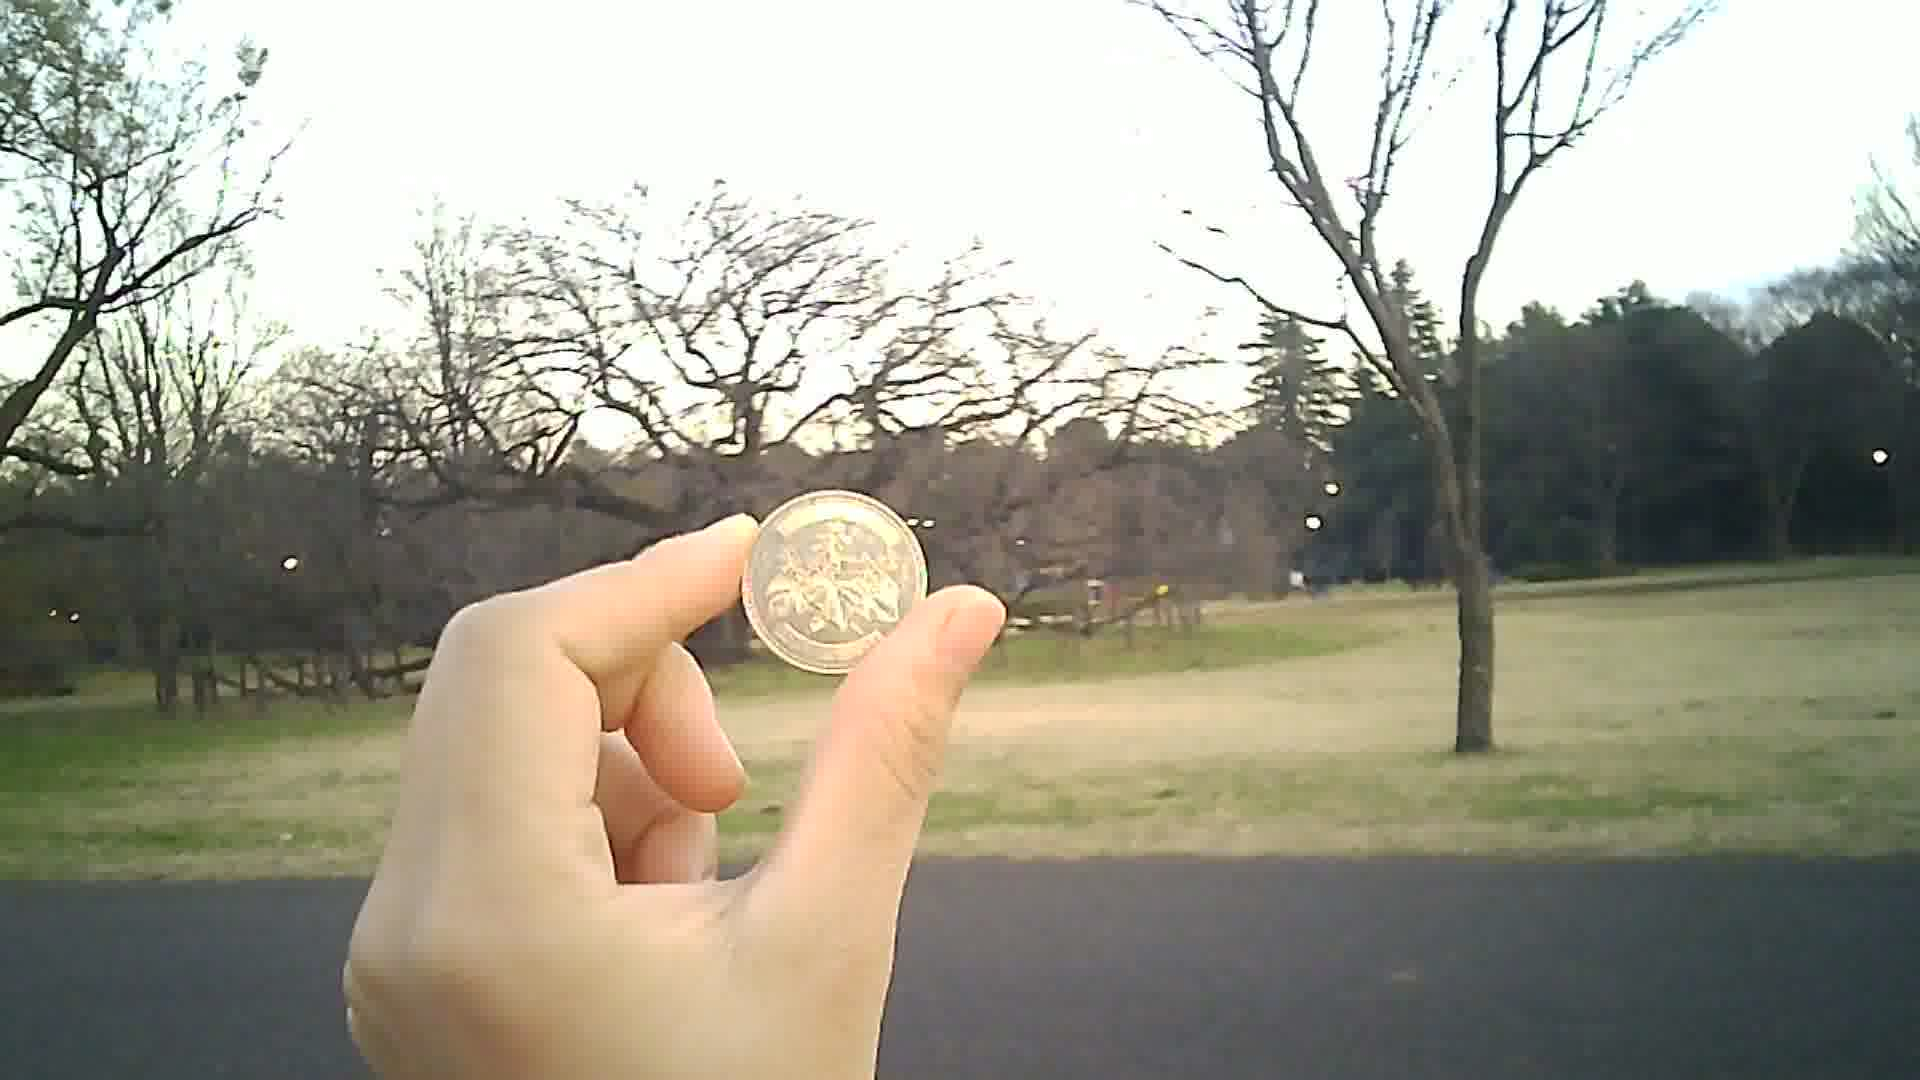500 Yen: (742, 487, 939, 683)
